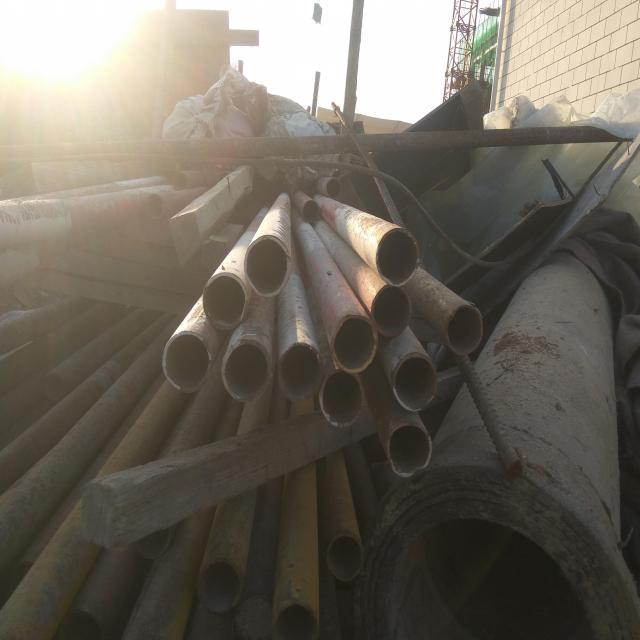pipe: (222, 338, 270, 402), (162, 330, 210, 392), (244, 235, 290, 297), (331, 315, 378, 373), (319, 368, 364, 427), (393, 352, 437, 412), (278, 342, 323, 400), (203, 272, 247, 331), (197, 558, 242, 615), (376, 228, 419, 286), (387, 422, 432, 477), (371, 284, 411, 337), (272, 599, 319, 640), (326, 532, 364, 582), (446, 305, 483, 355), (58, 608, 103, 640), (136, 523, 170, 559), (42, 372, 64, 400), (144, 193, 164, 219), (302, 200, 319, 222), (326, 177, 342, 199), (172, 170, 188, 190)
